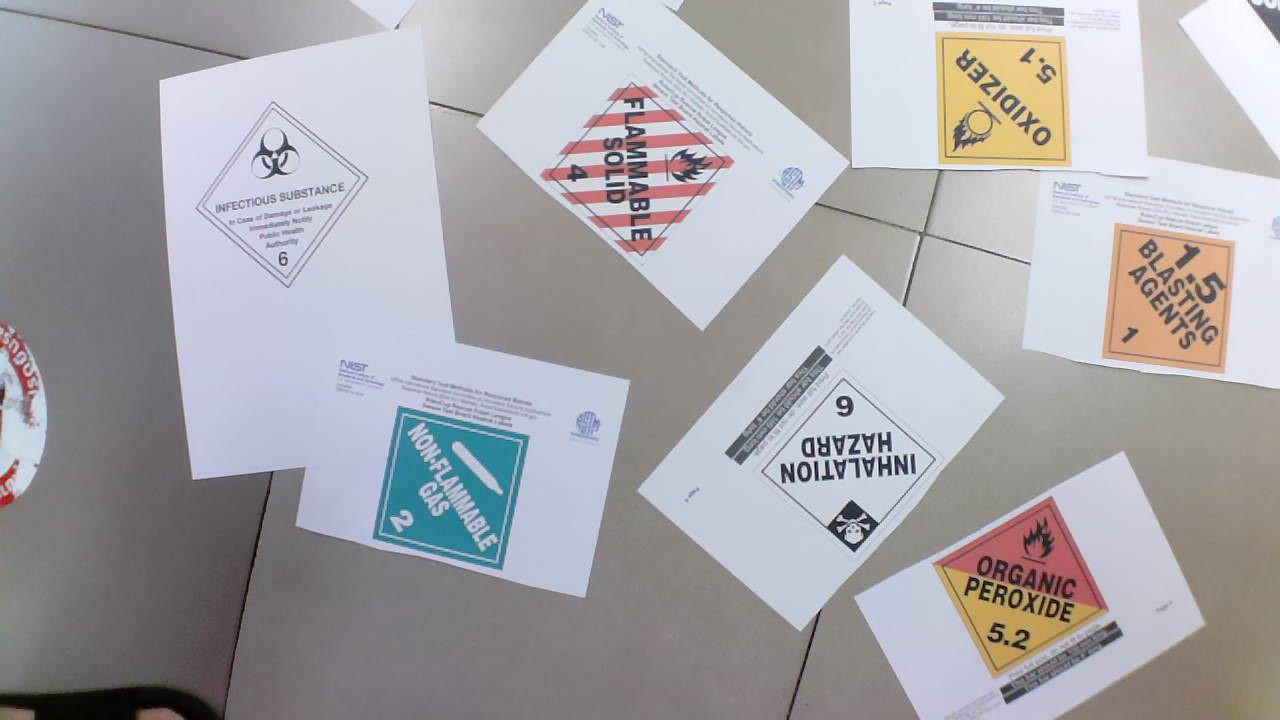explosive: (1094, 226, 1244, 371)
flammable-solid: (547, 76, 740, 252)
infectious-substance: (182, 97, 381, 294)
non-flammable-gas: (370, 406, 544, 571)
organic-peroxide: (940, 497, 1114, 670)
oxidizer: (933, 34, 1073, 170)
poison: (760, 376, 943, 554)
